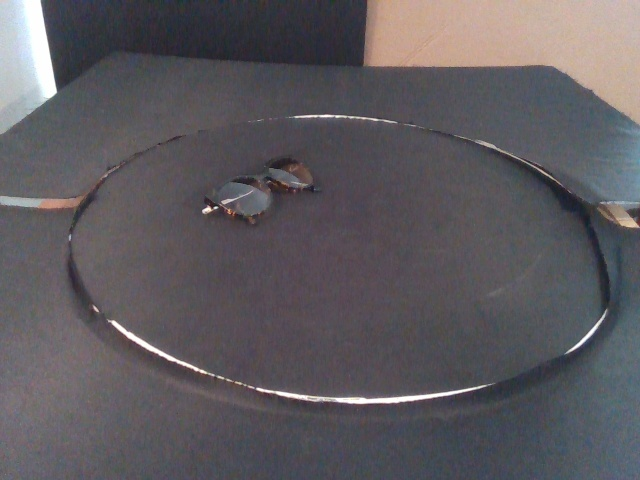glasses: (201, 154, 322, 226)
